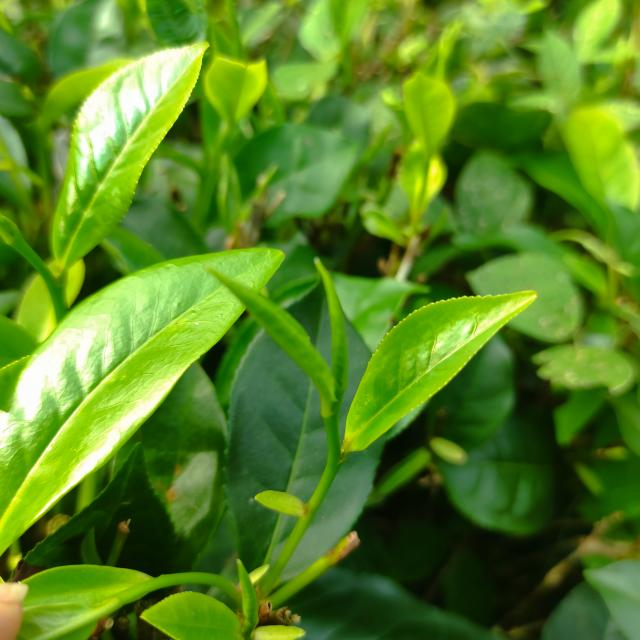unopened_leaf: (308, 245, 351, 405), (230, 547, 263, 637)
